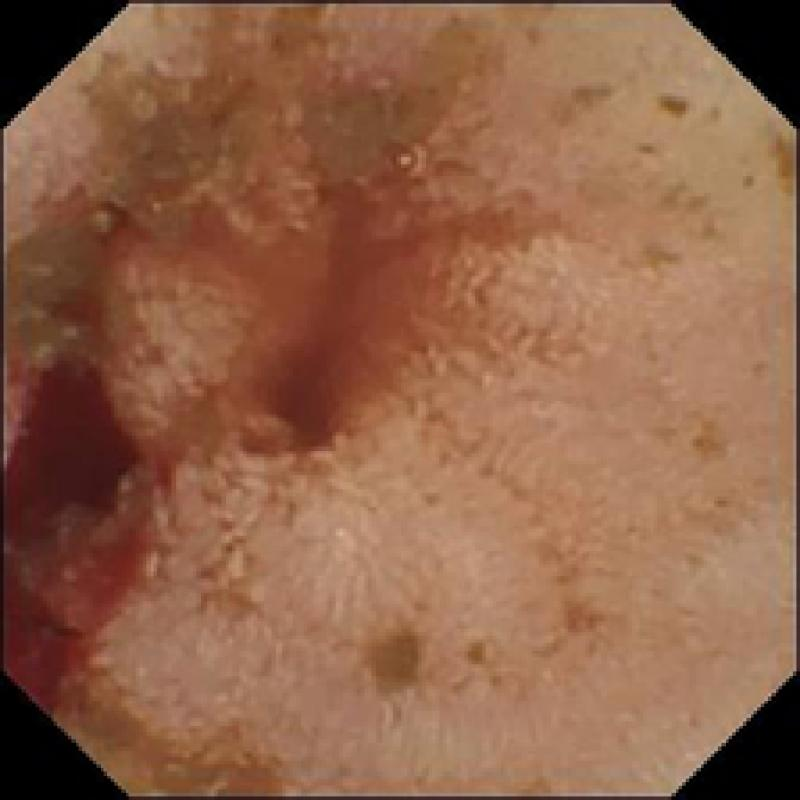bleeding: (0, 361, 168, 710)
